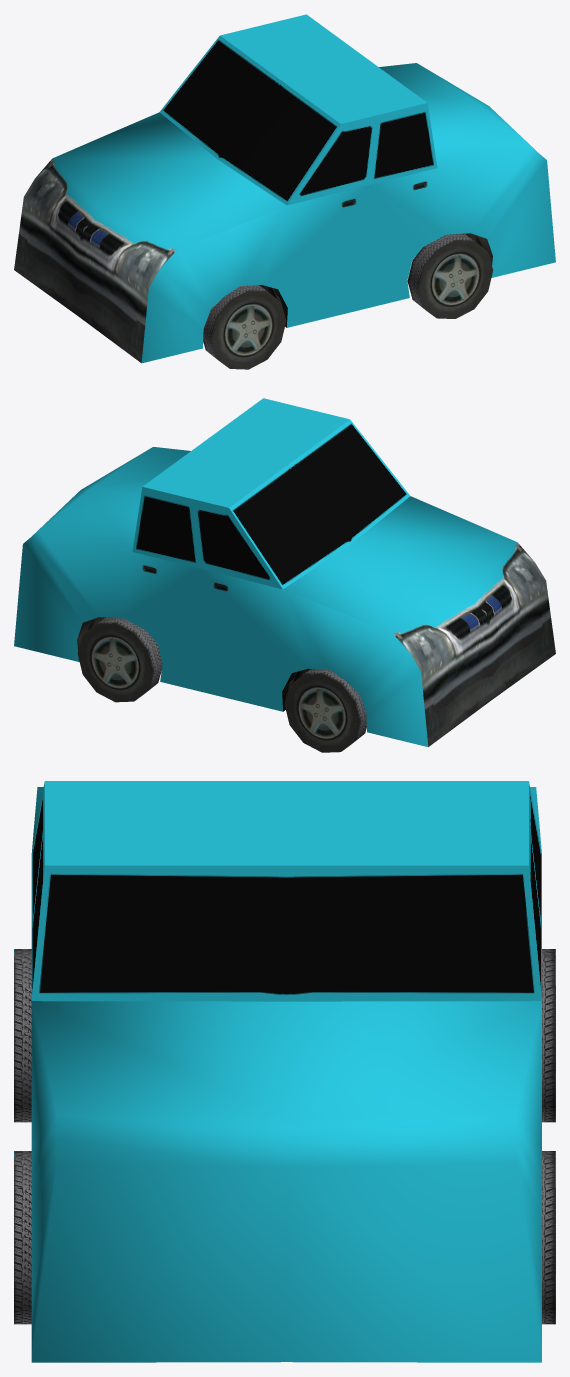
File: Car.FBX
3 views of the same model, one above another, from view 1: azimuth 30°, elevation 25°; view 2: azimuth 150°, elevation 25°; view 3: azimuth 270°, elevation 25° (orthographic). The views are drawn at different scales.
Parts seen in each view (by area): view 1: Box001, Cylinder002, Cylinder001; view 2: Box001, Cylinder004, Cylinder003; view 3: Box001, Cylinder001, Cylinder002, Cylinder003, Cylinder004.
Boxes of the visible parts, <box> form: Box001: <box>14,14,555,363</box>; Cylinder002: <box>407,233,493,318</box>; Cylinder001: <box>203,285,286,369</box>; Box001: <box>14,398,555,747</box>; Cylinder004: <box>77,617,162,702</box>; Cylinder003: <box>284,669,366,752</box>; Box001: <box>31,781,541,1362</box>; Cylinder001: <box>14,949,31,1122</box>; Cylinder002: <box>14,1151,31,1324</box>; Cylinder003: <box>542,949,555,1122</box>; Cylinder004: <box>542,1151,555,1324</box>.
Bounding box in the file's own units: 66.1 × 32.78 × 37.35.
Materials: 1 (1 with a texture image).
